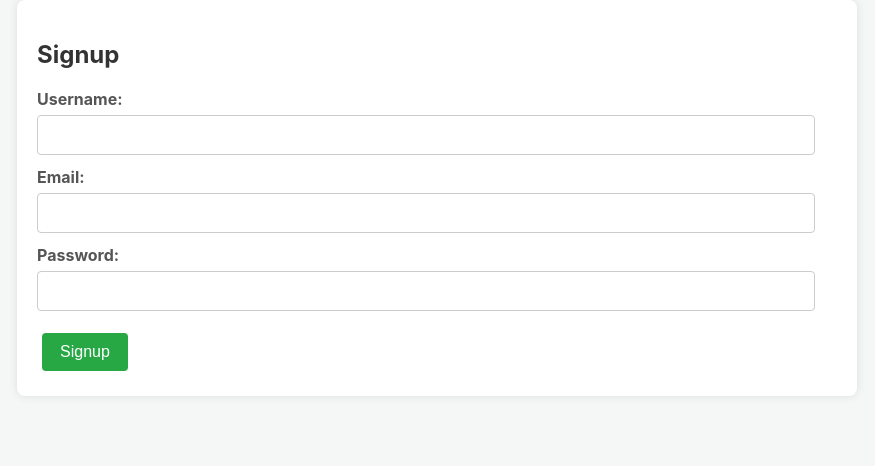
Scenario: SignupForm Component › handles successful signup
Step 1. Type "testsignup" into the field labelled "Username:" → (426, 135), box [37,115,815,155]
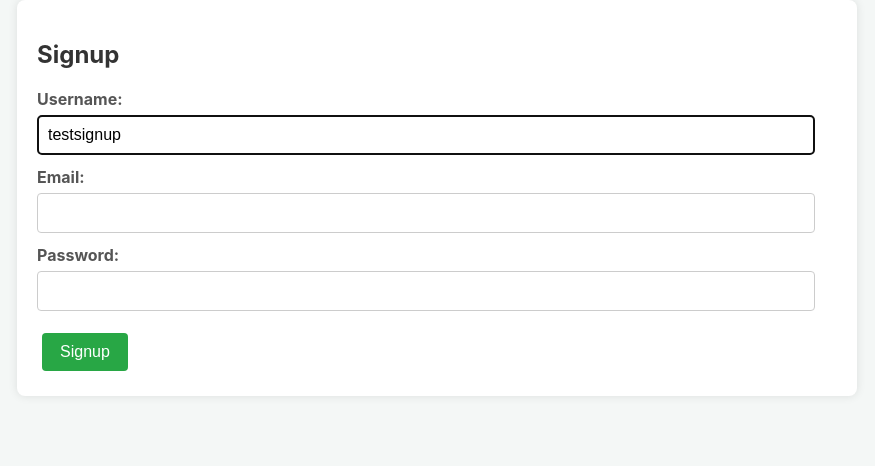
Step 2. Type "testsignup@example.com" into the field labelled "Email:" → (426, 213), box [37,193,815,233]
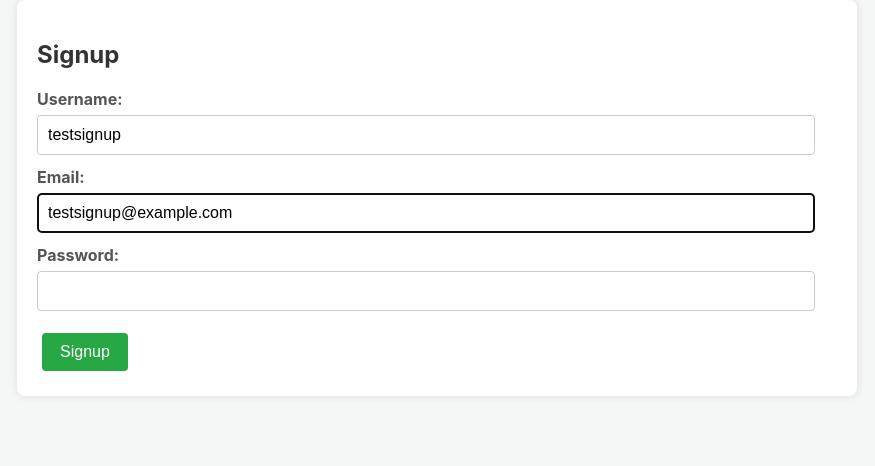
Step 3. Type "password123" into the password field labelled "Password:" → (426, 291), box [37,271,815,311]
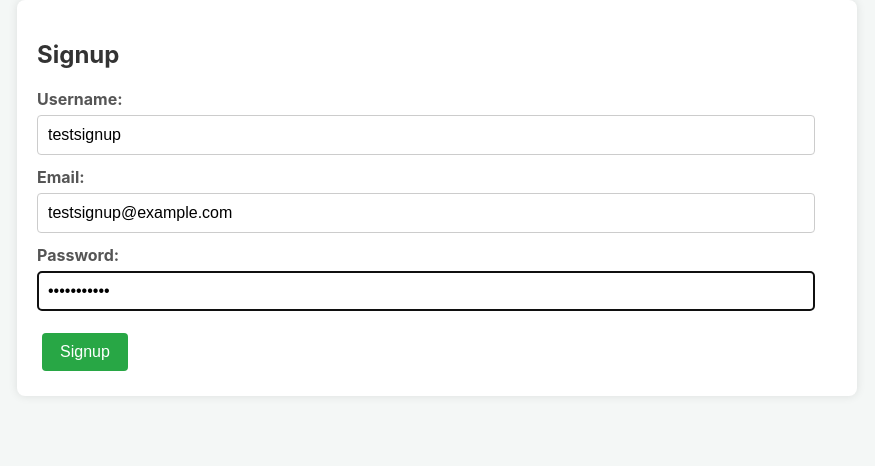
Step 4. Click the button "Signup" → (85, 352), box [42,333,128,371]
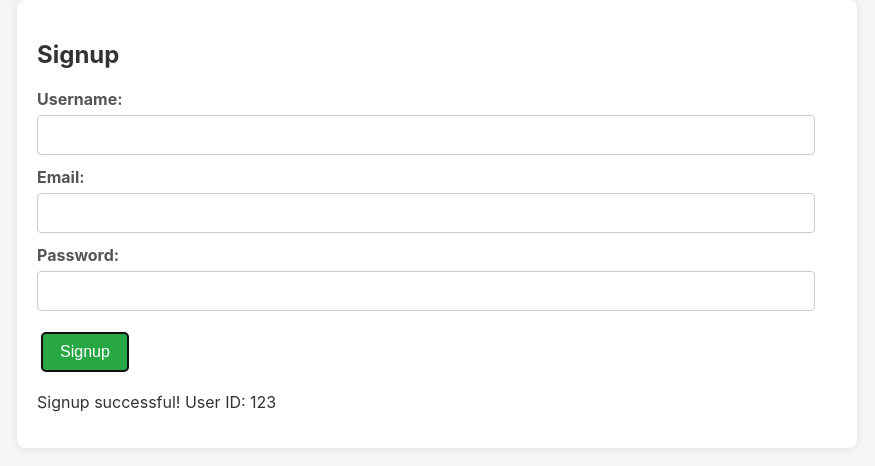
expect the text "Signup successful! User ID: 123" is shown: met, box [37,392,276,412]
expect the field labelled "Username:" is empty: met, box [37,115,815,155]
expect the field labelled "Email:" is empty: met, box [37,193,815,233]
